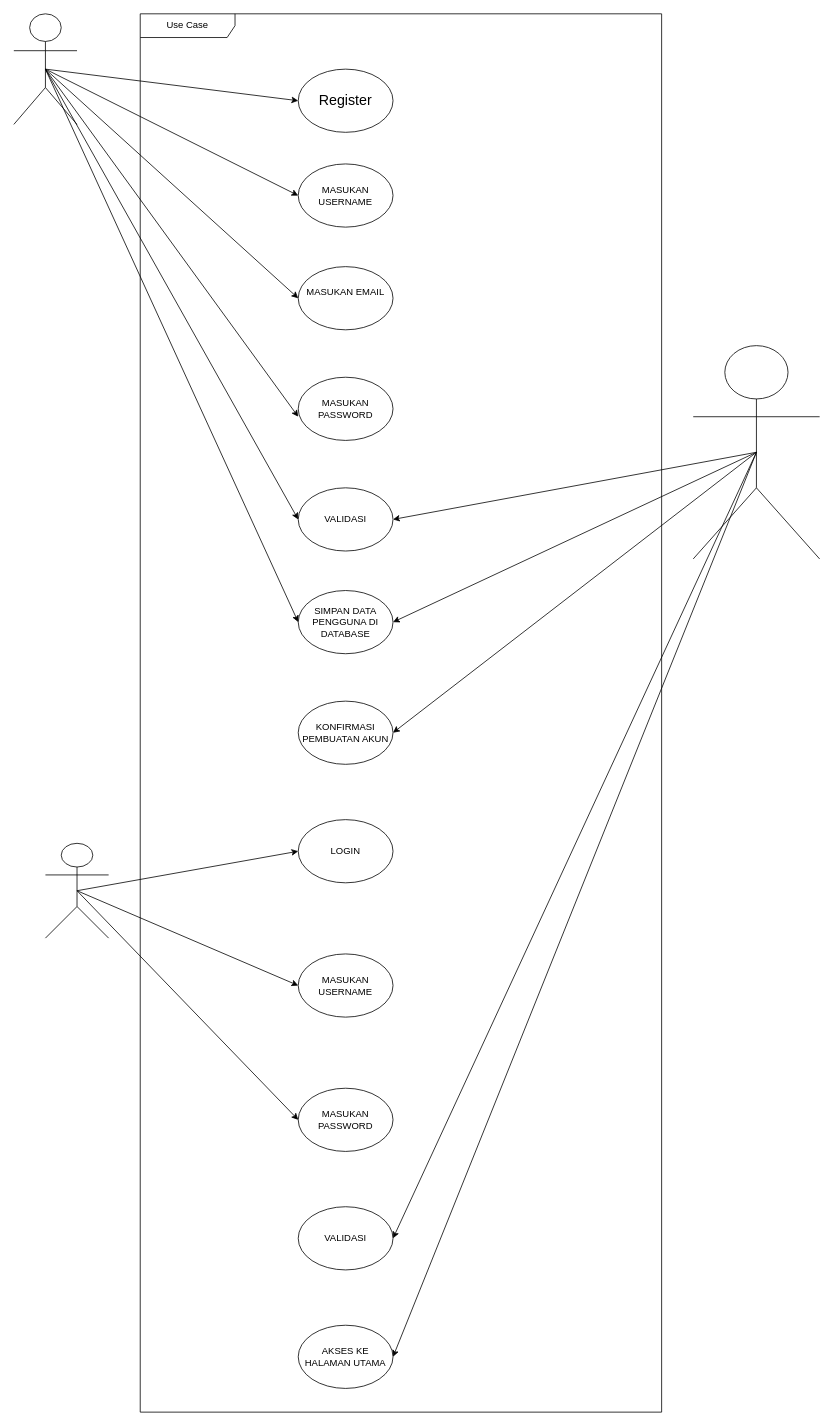
Image size: 833x1426. Some labels were removed from this diagram. The box of each missing label's shape, as (x1, y1, x2, y2) in pixels:
New User: (13, 13, 77, 124)
SYSTEM: (692, 345, 820, 559)
User: (45, 843, 109, 938)
